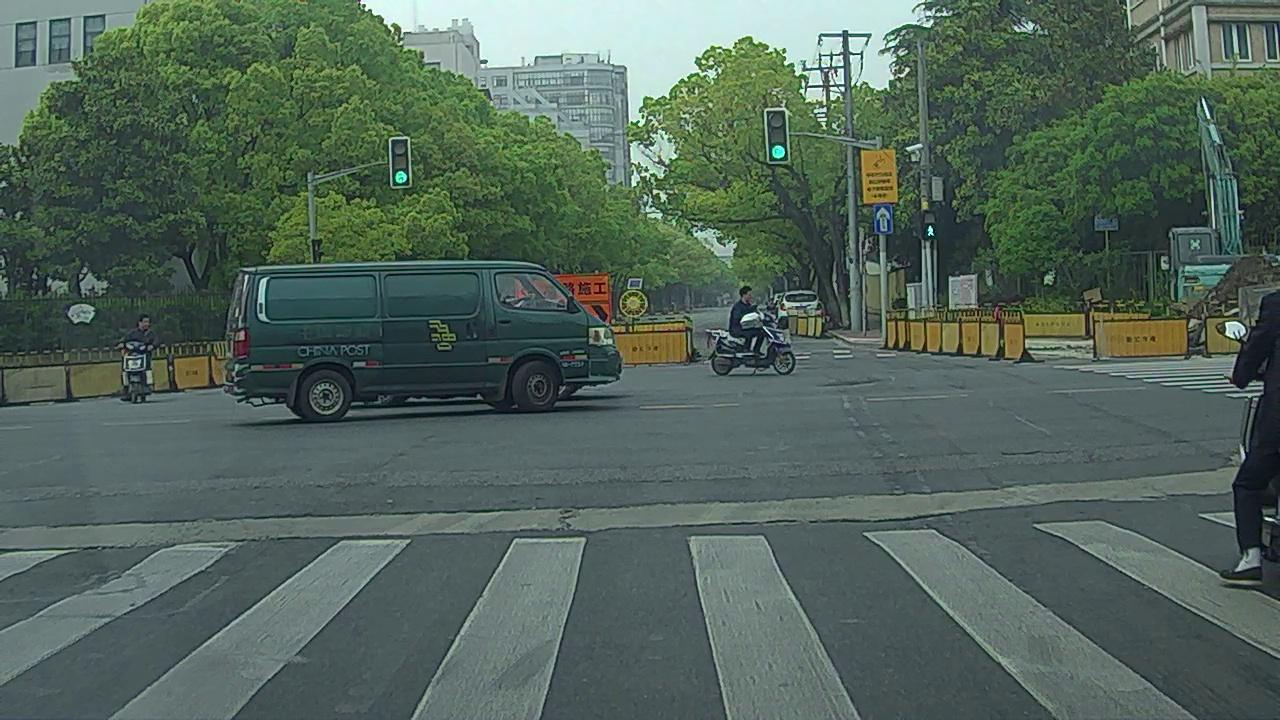traffic_light: (767, 108, 789, 165), (391, 138, 410, 188)
